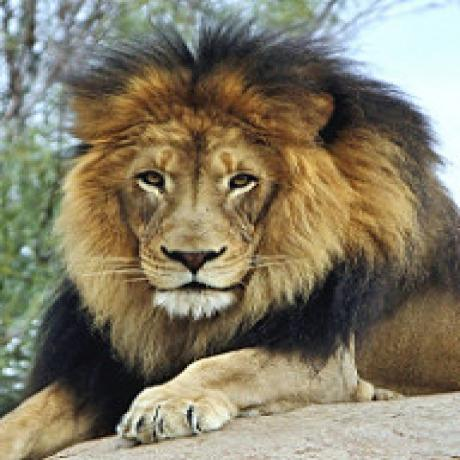Lion: (0, 17, 460, 460)
